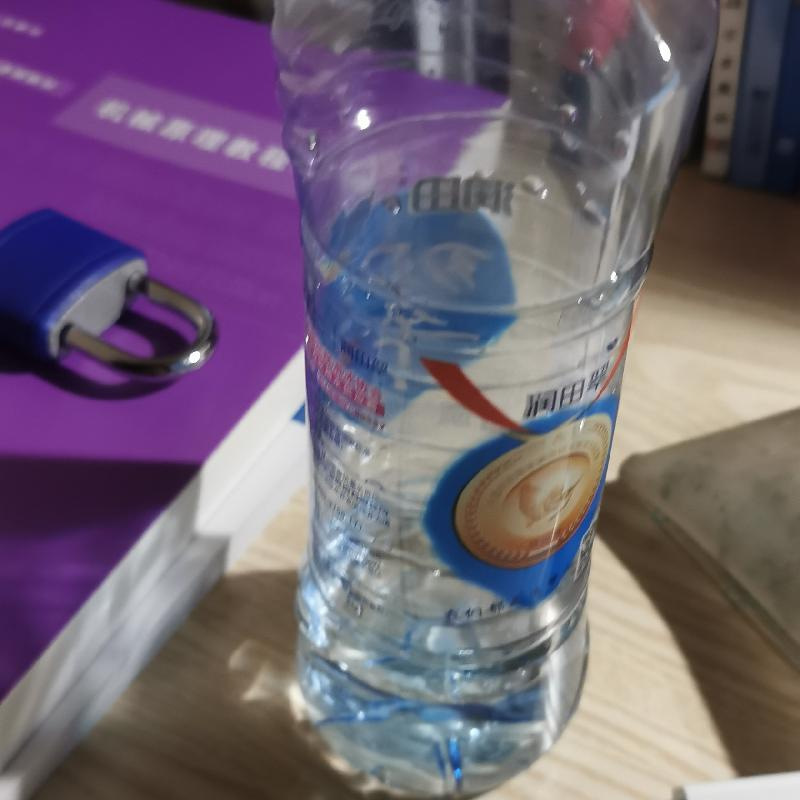bottles: (270, 16, 690, 800)
